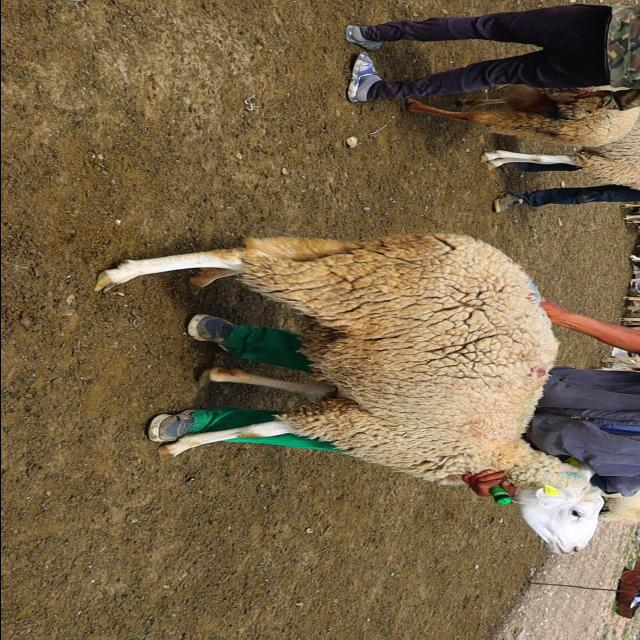Score_5: (94, 233, 603, 554)
